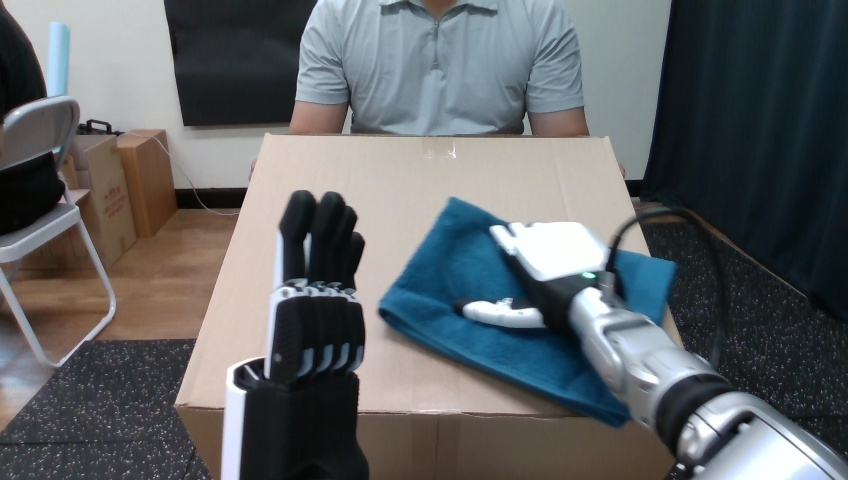left robot hand: (221, 190, 368, 478), (707, 225, 847, 458), (642, 216, 716, 357)
